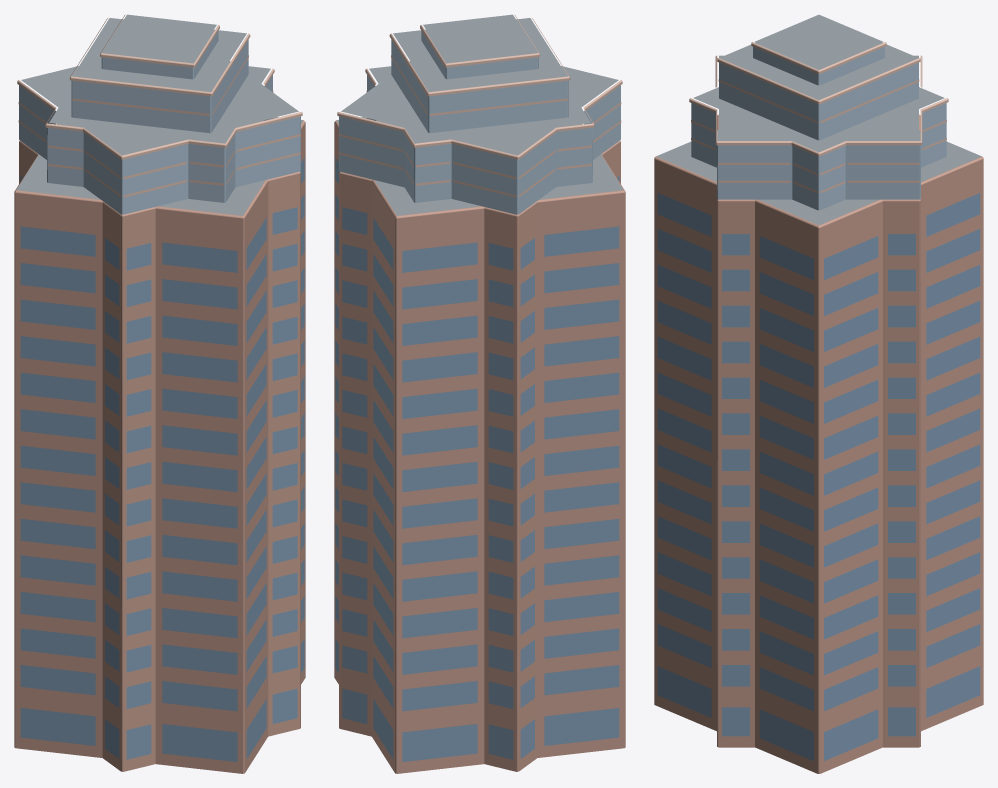
Rendered from la-fox-plaza.glb.
3 views of the same model, side by side, from view 1: azimuth 30°, elevation 25°; view 2: azimuth 150°, elevation 25°; view 3: azimuth 270°, elevation 25° (orthographic).
Visible parts, largest first — view 1: Fox Plaza; view 2: Fox Plaza; view 3: Fox Plaza.
Boxes of the visible parts, x1,y1,x2,y2 form: Fox Plaza: (14,14,305,773); Fox Plaza: (334,14,625,773); Fox Plaza: (654,14,983,773).
Size of the model in its own units: 66.51 by 148 by 66.51.
